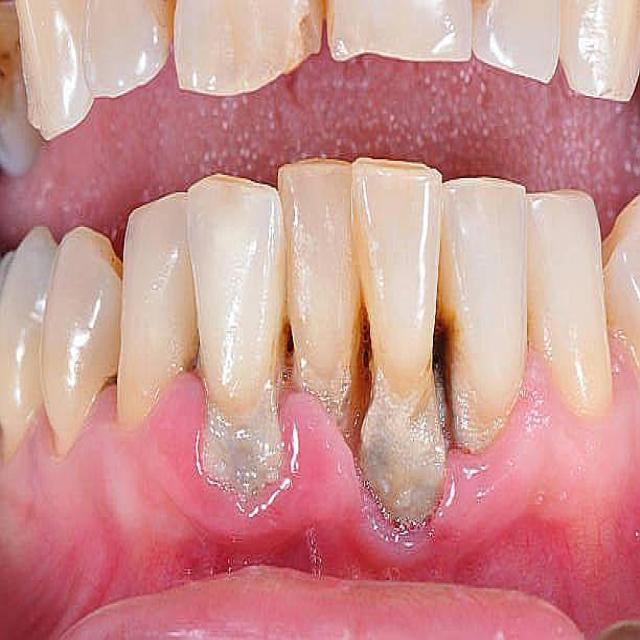caries: (270, 0, 343, 87), (417, 273, 472, 371)
